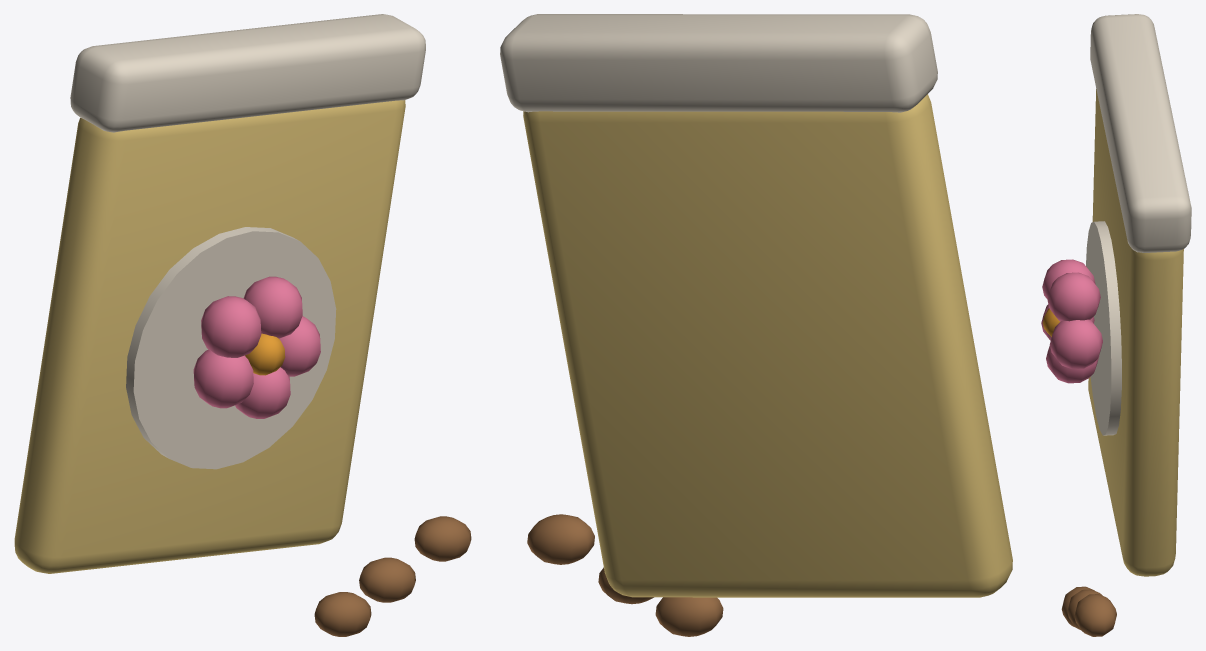
The model's file is mat_flowerseed.glb.
3 renders of one model, left to right at view 1: azimuth 30°, elevation 25°; view 2: azimuth 150°, elevation 25°; view 3: azimuth 270°, elevation 25°, orthographic. The views are drawn at different scales.
Visible parts, largest first — view 1: _box; view 2: _box; view 3: _box.
Part boxes in pixels (box(x1,y1,x2,y2)): _box: box(14, 14, 471, 636); _box: box(500, 14, 1012, 636); _box: box(1041, 14, 1191, 636).
Bounding box in the file's own units: 0.7943 × 1.07 × 0.2797.
